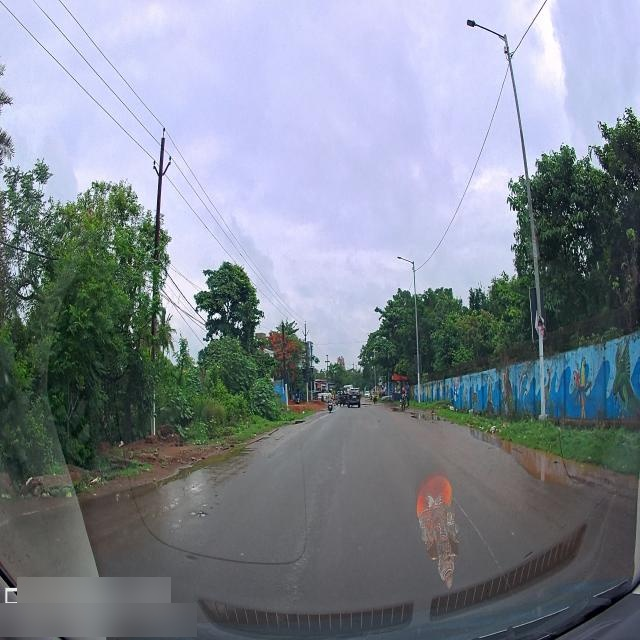pothole: (492, 428, 592, 476), (191, 449, 250, 467)
